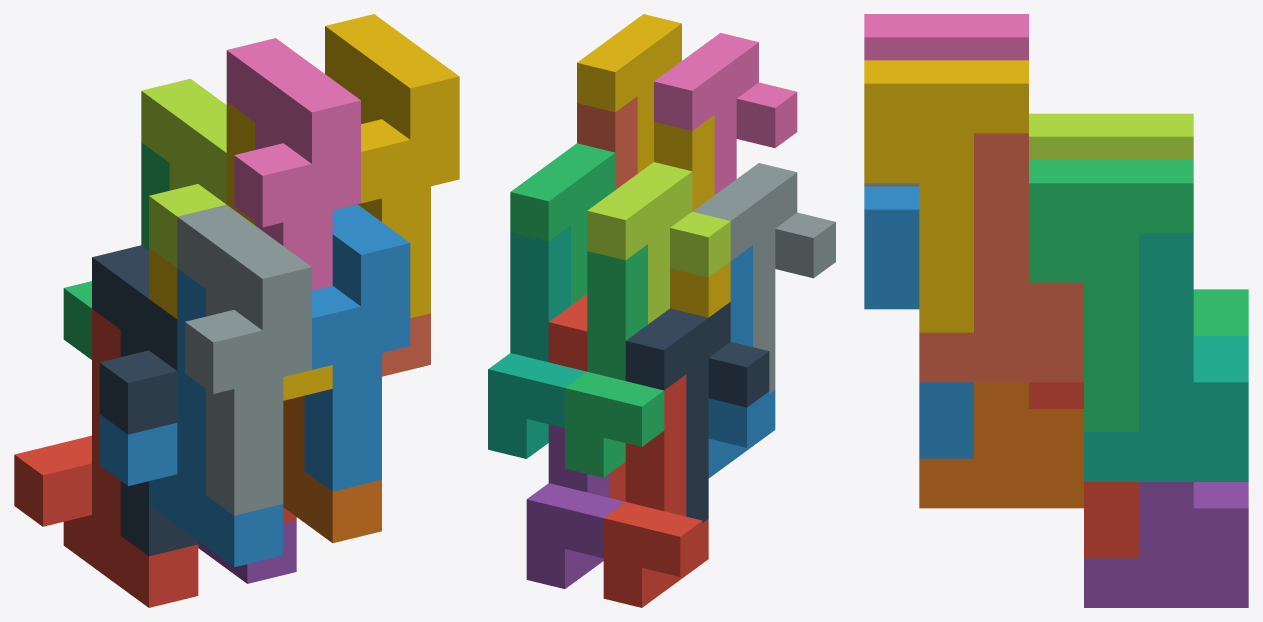
File: tiling.obj
The picture shows the model from 3 angles, left to right: view 1: azimuth 30°, elevation 25°; view 2: azimuth 150°, elevation 25°; view 3: azimuth 270°, elevation 25°; orthographic projection. The views are drawn at different scales.
Parts seen in each view (by area): view 1: copy_2_domain_2, copy_2_domain_4, copy_2_domain_6, copy_2_domain_8, copy_1_domain_1, copy_1_domain_2, copy_2_domain_1, copy_2_domain_3, copy_1_domain_6, copy_1_domain_4, copy_1_domain_3, copy_1_domain_5 (+1 smaller); view 2: copy_1_domain_3, copy_1_domain_1, copy_1_domain_7, copy_2_domain_1, copy_2_domain_4, copy_2_domain_3, copy_2_domain_2, copy_1_domain_5, copy_2_domain_7, copy_2_domain_8, copy_1_domain_4, copy_1_domain_2 (+2 smaller); view 3: copy_2_domain_8, copy_2_domain_7, copy_1_domain_7, copy_1_domain_8, copy_1_domain_5, copy_1_domain_6, copy_2_domain_6, copy_2_domain_3, copy_2_domain_4, copy_2_domain_5, copy_1_domain_3.
Part boxes in pixels (x1,y1,x2,y2): copy_2_domain_2: (177,204,311,515); copy_2_domain_4: (226,38,360,290); copy_2_domain_6: (304,204,410,491); copy_2_domain_8: (325,14,459,318); copy_1_domain_1: (14,309,198,607); copy_1_domain_2: (99,268,283,567); copy_2_domain_1: (92,245,198,556); copy_2_domain_3: (141,78,226,267); copy_1_domain_6: (283,396,381,543); copy_1_domain_4: (149,102,332,400); copy_1_domain_3: (63,142,169,359); copy_1_domain_5: (198,520,296,583); copy_1_domain_3: (565,244,664,477); copy_1_domain_1: (603,374,708,607); copy_1_domain_7: (488,225,586,458); copy_2_domain_1: (625,302,769,522); copy_2_domain_4: (654,33,797,194); copy_2_domain_3: (587,162,730,324); copy_2_domain_2: (693,163,835,393); copy_1_domain_5: (526,424,625,588); copy_2_domain_7: (510,143,615,305); copy_2_domain_8: (577,14,681,173); copy_1_domain_4: (654,115,730,317); copy_1_domain_2: (708,245,775,478); copy_2_domain_8: (864,60,1028,332); copy_2_domain_7: (1029,160,1193,431); copy_1_domain_7: (1084,233,1248,481); copy_1_domain_8: (919,133,1083,382); copy_1_domain_5: (1084,482,1248,607); copy_1_domain_6: (919,382,1083,508); copy_2_domain_6: (864,186,973,458); copy_2_domain_3: (1029,113,1193,159); copy_2_domain_4: (864,14,1028,60); copy_2_domain_5: (1029,382,1138,558); copy_1_domain_3: (1193,289,1248,335).
Bounding box in the file's own units: 5 × 11 × 7.
